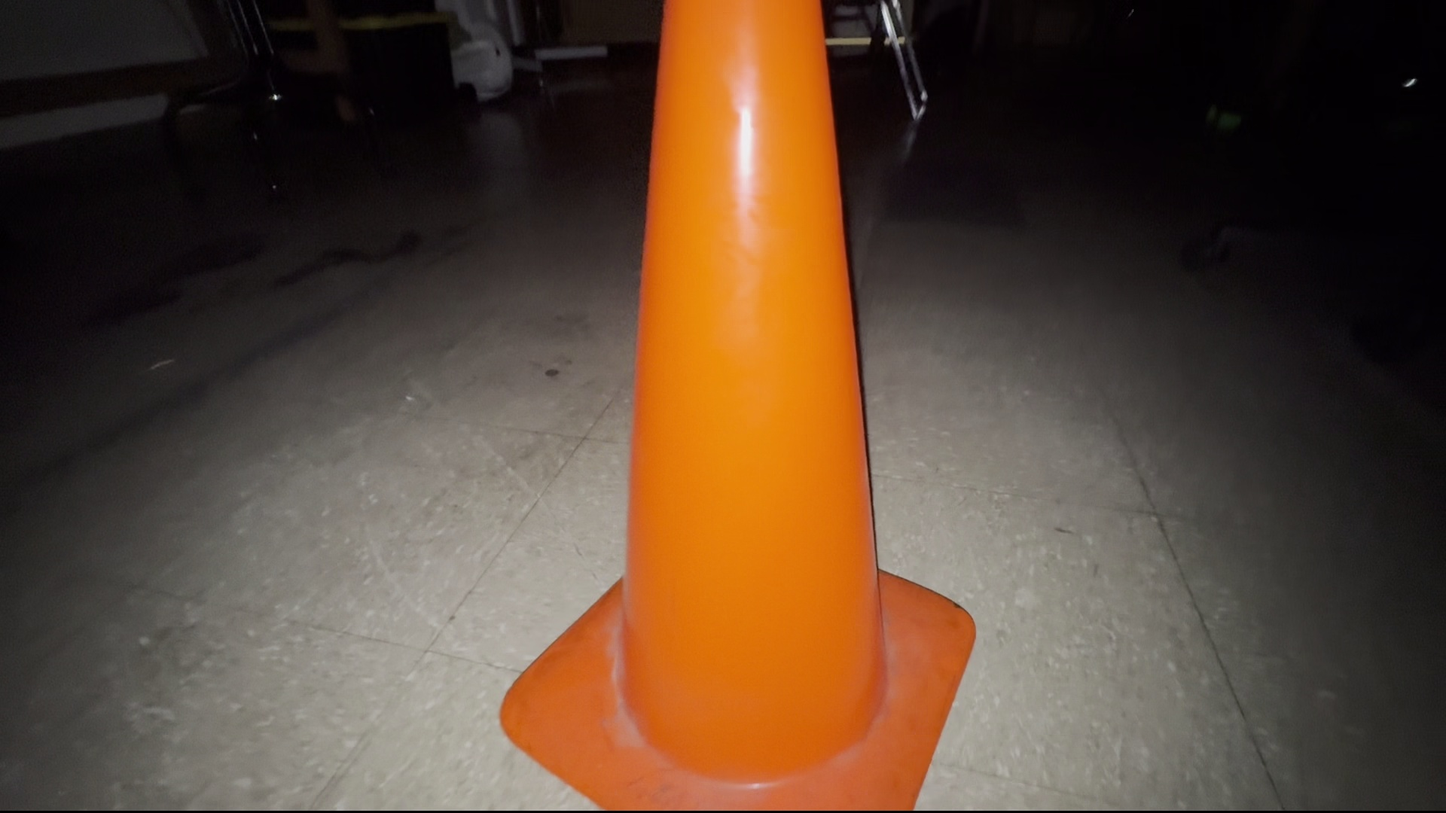traffic_cone: (498, 1, 977, 811)
